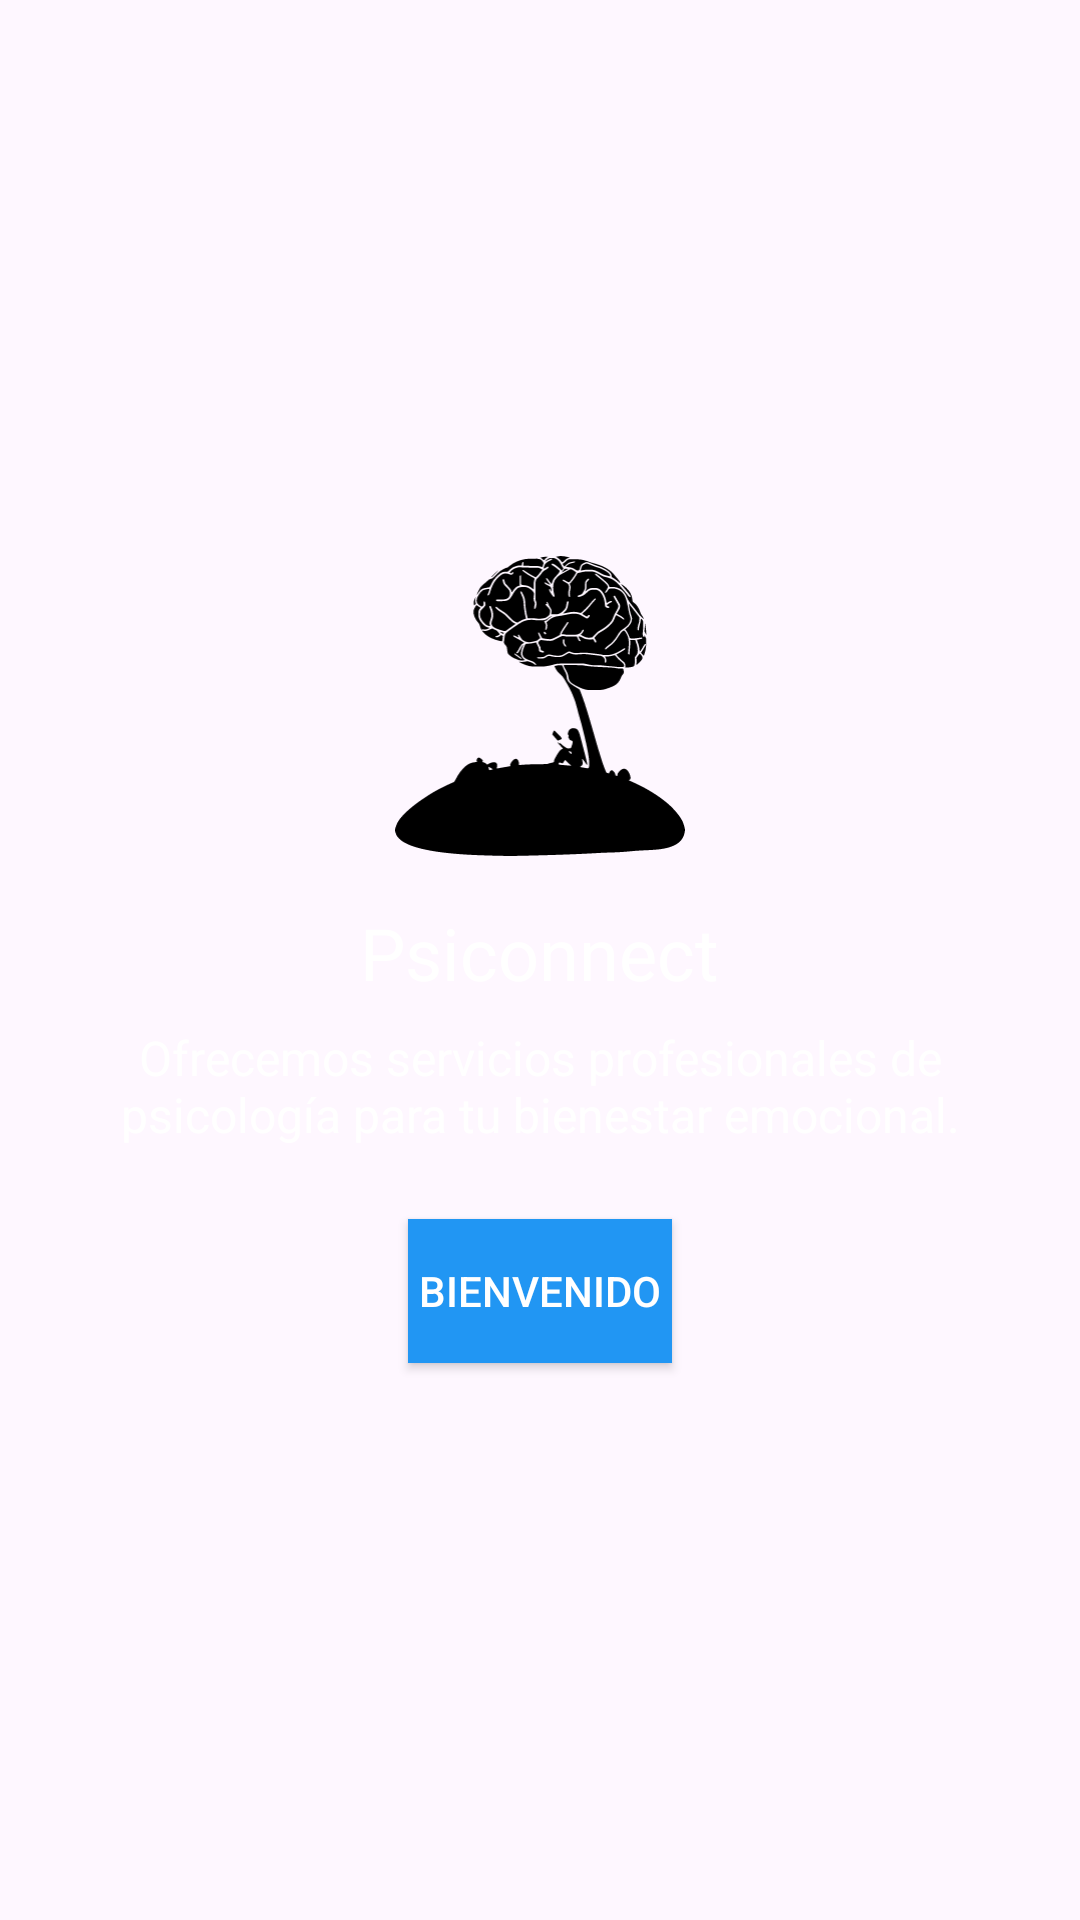

Where icons sit on this 1080px x 1920px app screen, as region(x1, y1, x2, y2):
iconopsico: region(395, 556, 685, 856)
